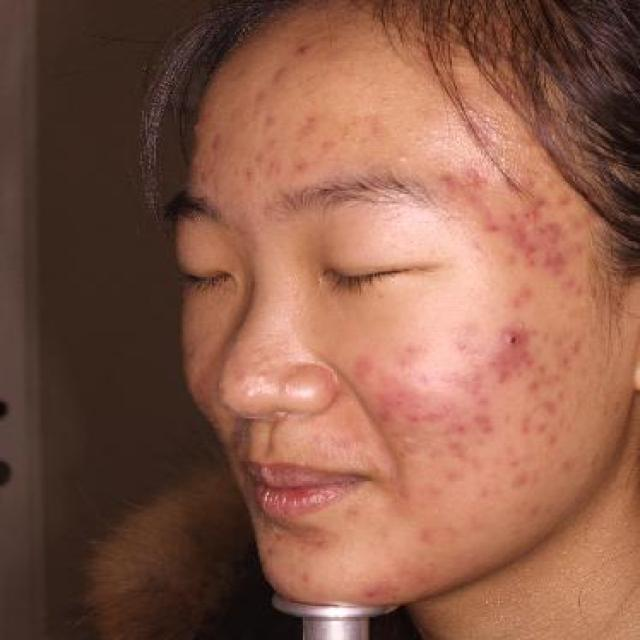blackheads: (502, 323, 530, 354)
dark spot: (445, 360, 489, 402), (286, 112, 337, 142), (469, 405, 505, 446), (344, 352, 378, 394), (260, 60, 303, 92), (356, 575, 400, 603), (282, 40, 327, 66), (254, 106, 288, 134)
